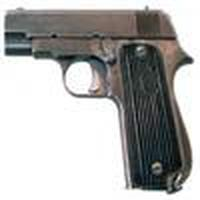gun: (3, 8, 194, 199)
